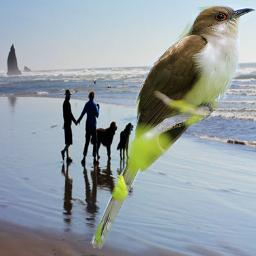Cuckoo: (90, 3, 256, 249)
